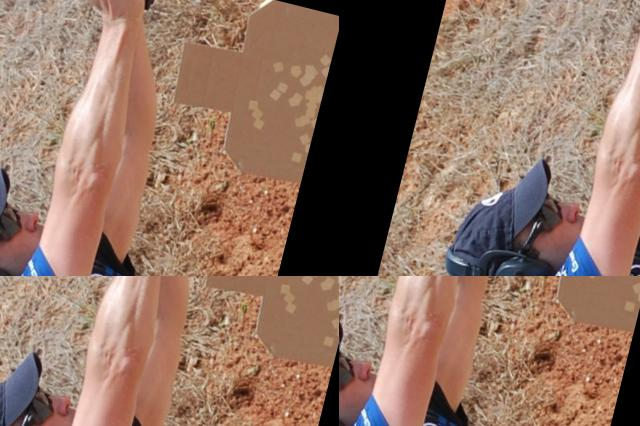handgun: (0, 276, 339, 426), (452, 0, 640, 250), (22, 187, 286, 276), (393, 276, 499, 315)
